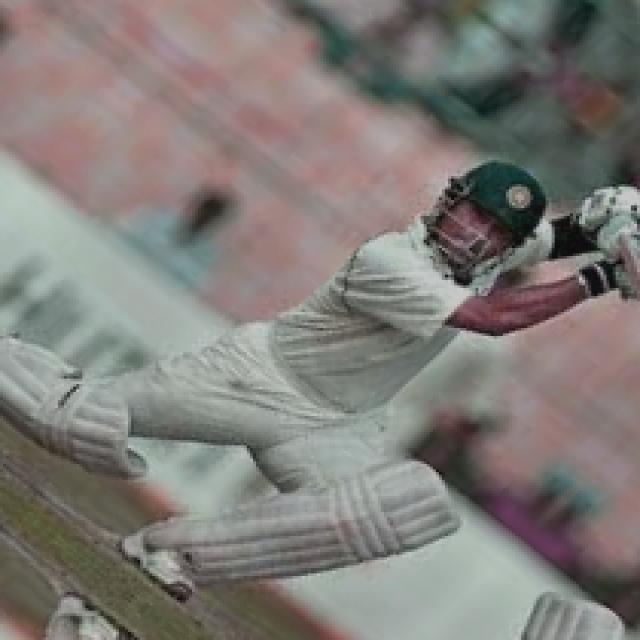bat: (623, 232, 640, 295)
